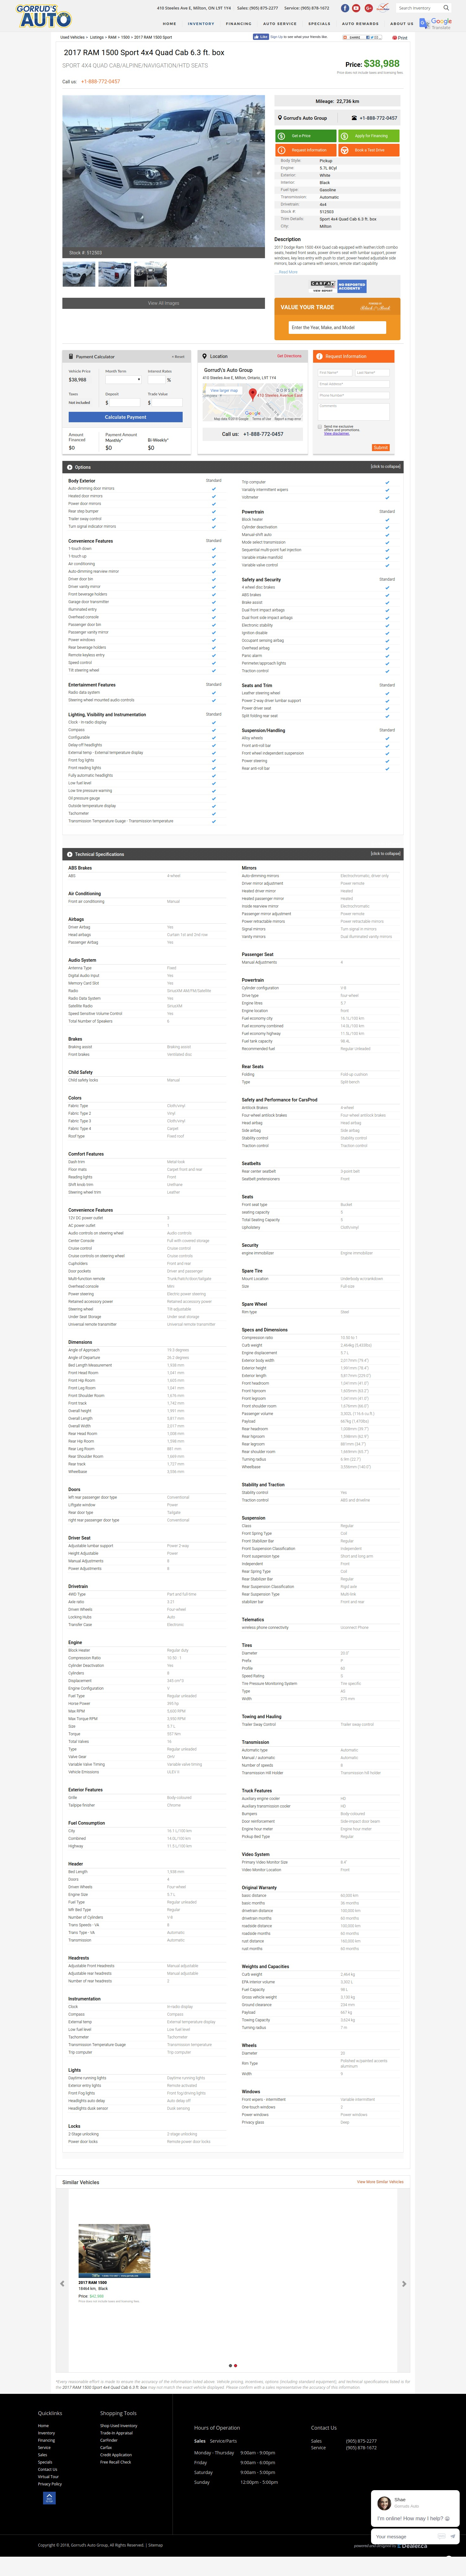car: (256, 168, 263, 176)
